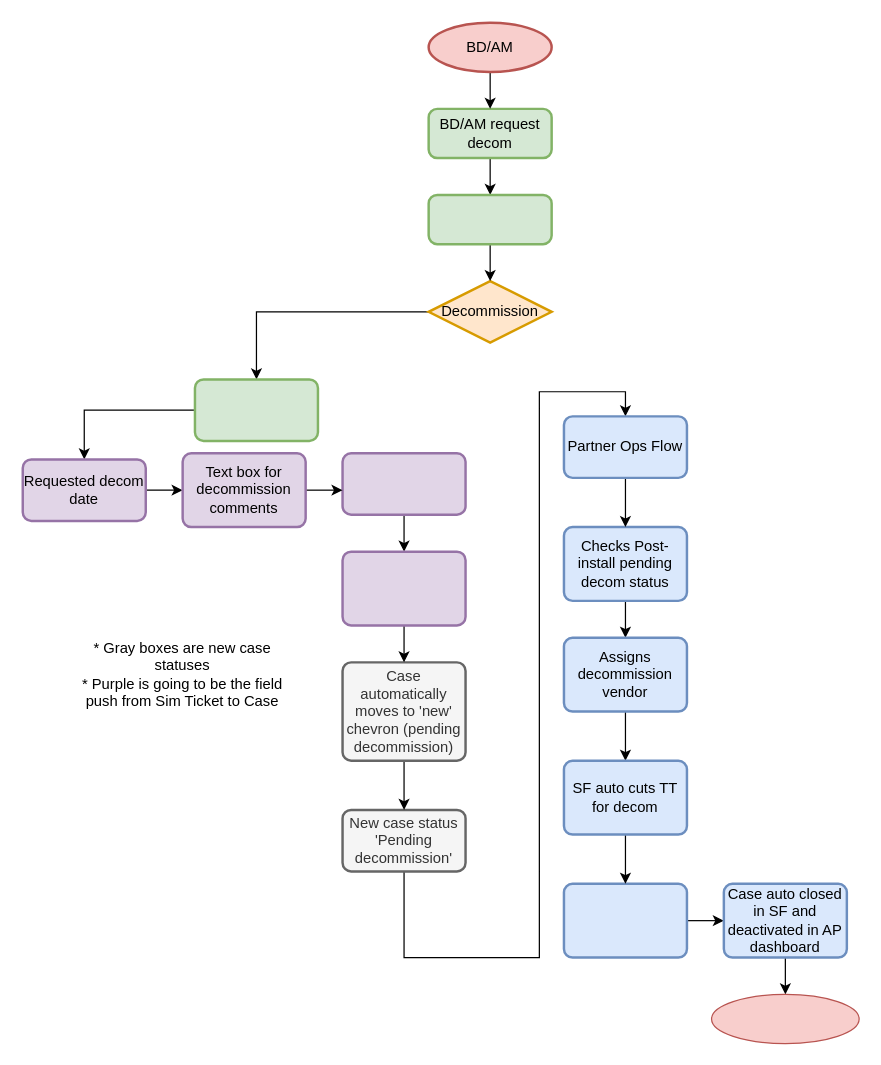
The diagram is 881 pixels wide and 1065 high, and some of its shapes have lost their labels. The shapes that lost their labels are listed below. From the top down, each one's centre as x and y in pixels, then its label:
At point 489,219: "In the specific Case".
At point 256,410: "AM/BD completes decom field with".
At point 403,483: "Select decommission reason".
At point 403,588: "Request Decom check box".
At point 625,920: "Select decommissioned checkbox".
At point 784,1018: "End".
